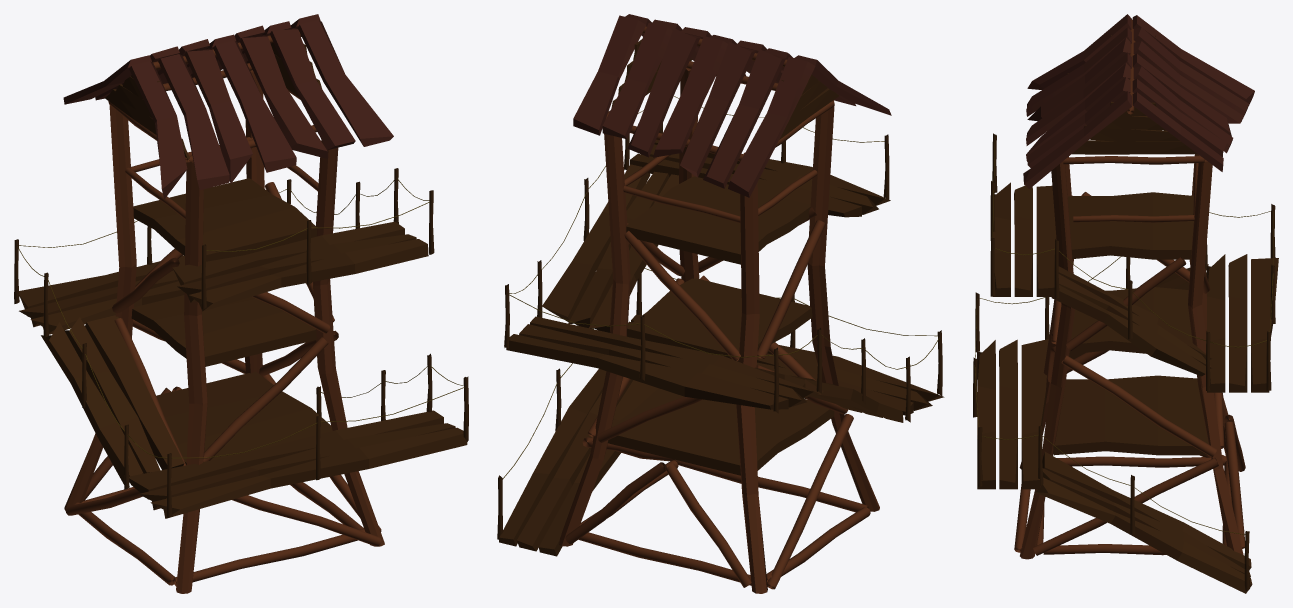
The model's file is torremadagascar.glb.
3 renders of one model, left to right at view 1: azimuth 30°, elevation 25°; view 2: azimuth 150°, elevation 25°; view 3: azimuth 270°, elevation 25°, orthographic. The views are drawn at different scales.
Visible parts, largest first — view 1: Cilindro, Cubo.002, Cubo, Cubo.001, Cubo.031, Cubo.029, Cubo.034, Cubo.023, Cubo.010, Cubo.012, Cubo.016, Cubo.011 (+24 smaller); view 2: Cilindro, Cubo, Cubo.002, Cubo.001, Cubo.035, Cubo.022, Cubo.009, Cubo.007, Cubo.036, Cubo.026, Cubo.004, Cubo.008 (+28 smaller); view 3: Cilindro, Cubo, Cubo.002, Cubo.022, Cubo.001, Cubo.029, Cubo.030, Cubo.026, Cubo.035, Cubo.020, Cubo.036, Cubo.031 (+34 smaller).
Part boxes in pixels (x1,y1,x2,y2): Cilindro: (64, 70, 384, 593); Cubo.002: (133, 178, 316, 261); Cubo: (156, 371, 332, 464); Cubo.001: (131, 292, 316, 366); Cubo.031: (150, 427, 467, 518); Cubo.029: (129, 410, 443, 499); Cubo.034: (189, 239, 428, 311); Cubo.023: (85, 315, 184, 469); Cubo.010: (213, 40, 296, 172); Cubo.012: (158, 54, 229, 190); Cubo.016: (297, 20, 393, 146); Cubo.011: (239, 35, 327, 158); Cilindro: (559, 68, 879, 593); Cubo: (608, 388, 834, 475); Cubo.002: (626, 176, 810, 264); Cubo.001: (627, 278, 812, 361); Cubo.035: (506, 334, 788, 409); Cubo.022: (499, 369, 606, 546); Cubo.009: (728, 57, 815, 197); Cubo.007: (703, 49, 786, 188); Cubo.036: (519, 324, 806, 407); Cubo.026: (542, 164, 650, 322); Cubo.004: (680, 41, 755, 177); Cubo.008: (573, 15, 645, 135); Cilindro: (1019, 154, 1243, 559); Cubo: (1053, 375, 1208, 455); Cubo.002: (1068, 192, 1193, 259); Cubo.022: (1035, 477, 1252, 593); Cubo.001: (1069, 287, 1192, 354); Cubo.029: (1021, 339, 1048, 489); Cubo.030: (999, 339, 1017, 489); Cubo.026: (1051, 285, 1205, 376); Cubo.035: (1251, 258, 1278, 392); Cubo.020: (1042, 452, 1251, 570); Cubo.036: (1228, 254, 1247, 392); Cubo.031: (977, 340, 995, 489).
Size of what is drawn, in the model's own units: 9.62 by 14.77 by 8.78.
